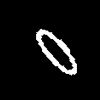chain: (36, 29, 76, 74)
